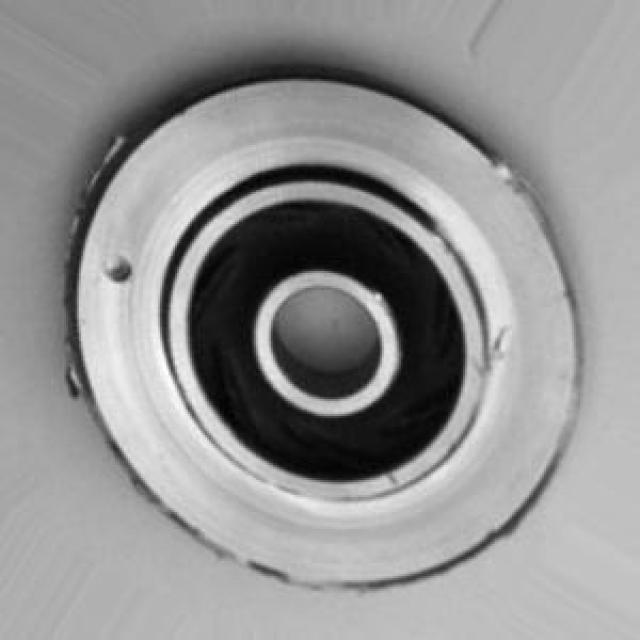Defect: (96, 252, 149, 284), (485, 320, 516, 365)
